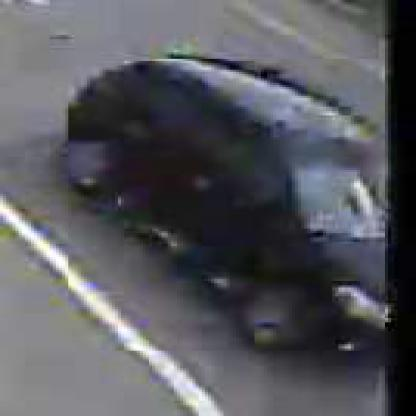car: (69, 60, 389, 354)
